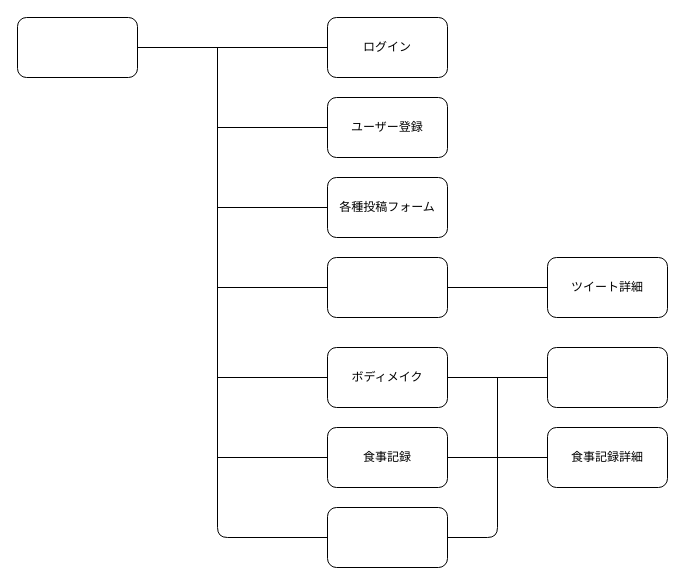
Some shapes in this 685 by 585 pixel diagram are drawn without their labels. The centre of each missing label's shape, as x and y in pixels:
ツイート: the point at 387,287
トップページ: the point at 77,47
ボディメイク詳細: the point at 607,377
マイページ: the point at 387,537
